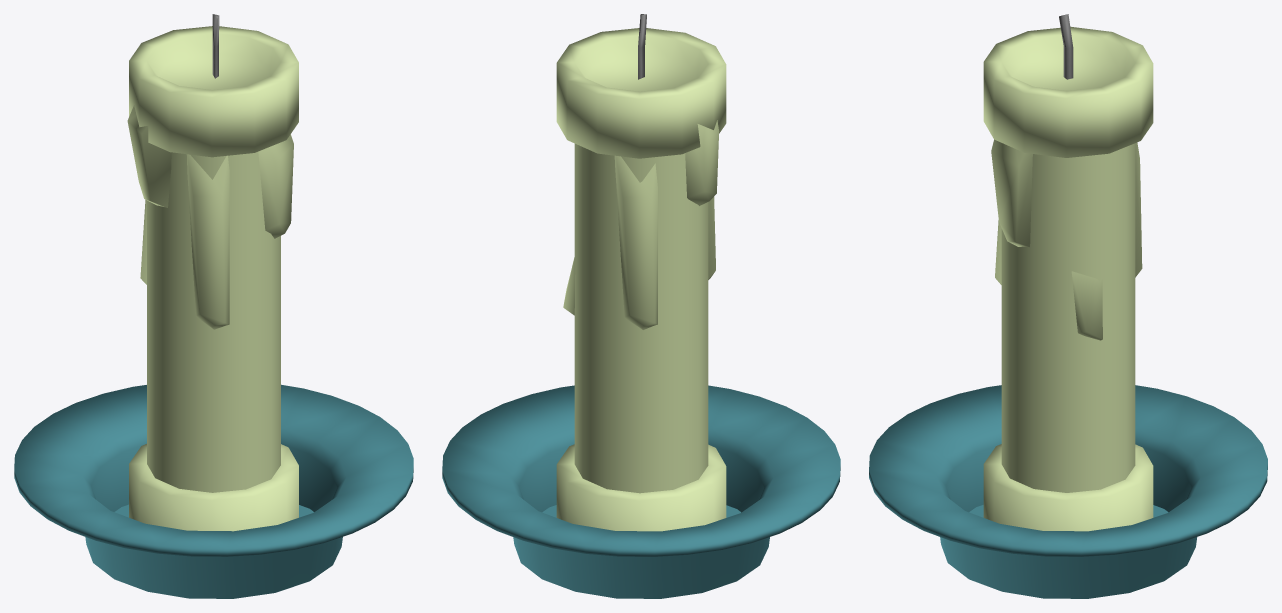
File: GB_187_candle.glb
3 views of the same model, side by side, from view 1: azimuth 30°, elevation 25°; view 2: azimuth 150°, elevation 25°; view 3: azimuth 270°, elevation 25° (orthographic).
Visible parts, largest first — view 1: Candle, Plate; view 2: Candle, Plate; view 3: Candle, Plate, Fuse.
Part boxes in pixels (bbox=[...]): Candle: bbox=[127, 26, 298, 531]; Plate: bbox=[14, 384, 413, 598]; Candle: bbox=[556, 28, 726, 531]; Plate: bbox=[442, 385, 840, 598]; Candle: bbox=[983, 26, 1153, 531]; Plate: bbox=[869, 385, 1267, 598]; Fuse: bbox=[1059, 14, 1073, 79].
Size of the model in its own units: 0.7222 by 1.06 by 0.7225.
